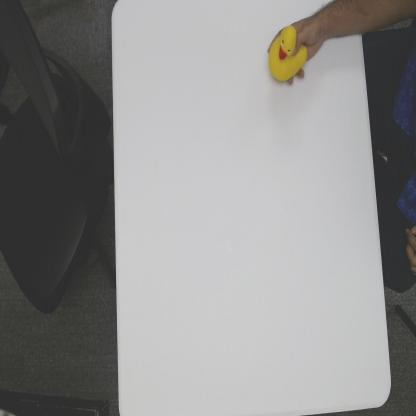Arm: (323, 0, 364, 41)
Duck: (269, 25, 307, 84)
Hand: (266, 13, 322, 84)
